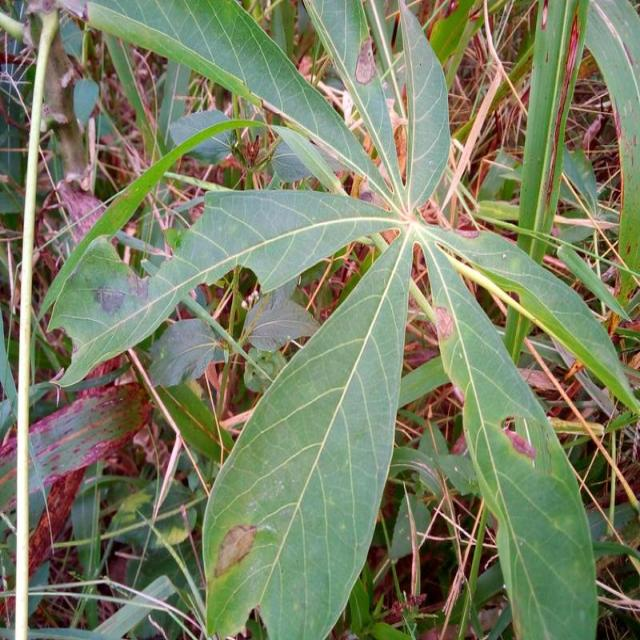cassava leaf: (27, 0, 636, 638), (200, 227, 414, 638), (417, 227, 599, 638)
